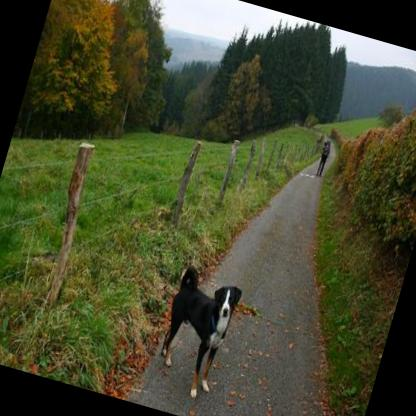Appenzeller: (148, 260, 245, 402)
